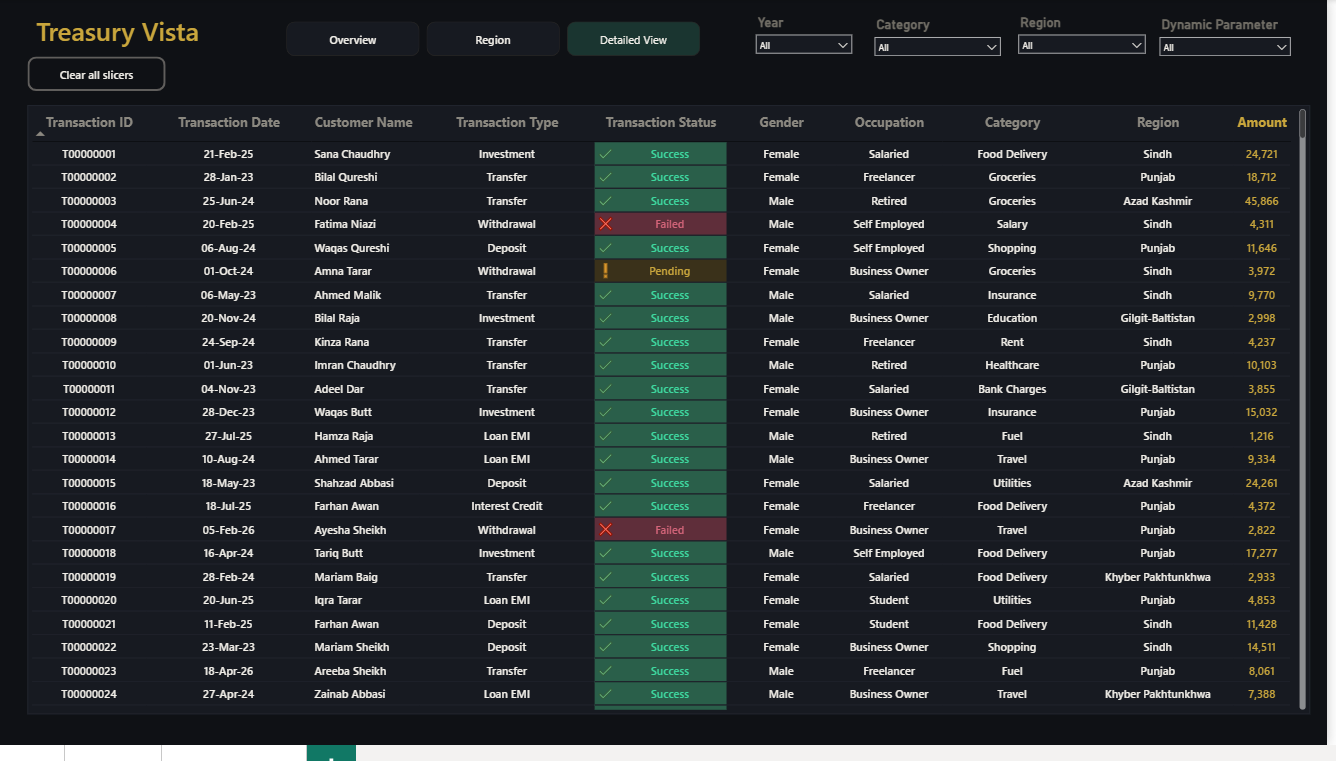

Layout of this report page (visuals, bound fields, positions):
{"tool":"powerbi","page":{"name":"Detailed View","canvas":[1920,1080],"ordinal":2},"visuals":[{"type":"slicer","title":"Year","fields":{"Values":["Calender Table.Year"]},"box":[1084,18.1,159.3,65.1],"z":0},{"type":"slicer","title":"Year","fields":{"Values":["customers.city"]},"box":[1464,18.1,204.5,65.1],"z":1000},{"type":"slicer","title":"Year","fields":{"Values":["finance_transactions.merchant_category"]},"box":[1255.9,21.7,202.7,65.1],"z":2000},{"type":"slicer","title":"Year","fields":{"Values":[" Dynamic Parameter. Dynamic Parameter"]},"box":[1668.5,21.7,209.9,65.1],"z":3000},{"type":"tableEx","fields":{"Values":["finance_transactions.transaction_id","finance_transactions.transaction_date","customers.Customer Name","finance_transactions.transaction_type","finance_transactions.transaction_status","customers.gender","customers.occupation","finance_transactions.merchant_category","customers.state","finance_transactions.amount"]},"box":[39.8,153.8,1856.7,881.3],"z":4000},{"type":"pageNavigator","box":[414.4,32.6,600,50],"z":5000},{"type":"actionButton","box":[39.8,83.2,200,50],"z":6000},{"type":"textbox","box":[19.9,16.3,300.4,73.6],"z":7000}]}

Visuals, with their boxes in screenshot pixels (x1, y1, x2, y2), scaled from the page's 1920x1080 canvas onto the 1336x761 screenshot:
"Year" slicer: bbox(754, 13, 865, 59)
"Year" slicer: bbox(1019, 13, 1161, 59)
"Year" slicer: bbox(874, 15, 1015, 61)
"Year" slicer: bbox(1161, 15, 1307, 61)
tableEx - finance_transactions.transaction_id x finance_transactions.transaction_date: bbox(28, 108, 1320, 729)
pageNavigator: bbox(288, 23, 706, 58)
actionButton: bbox(28, 59, 167, 94)
textbox: bbox(14, 11, 223, 63)
